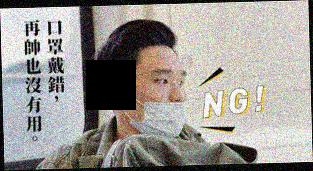mask_weared_incorrect: (128, 66, 189, 138)
